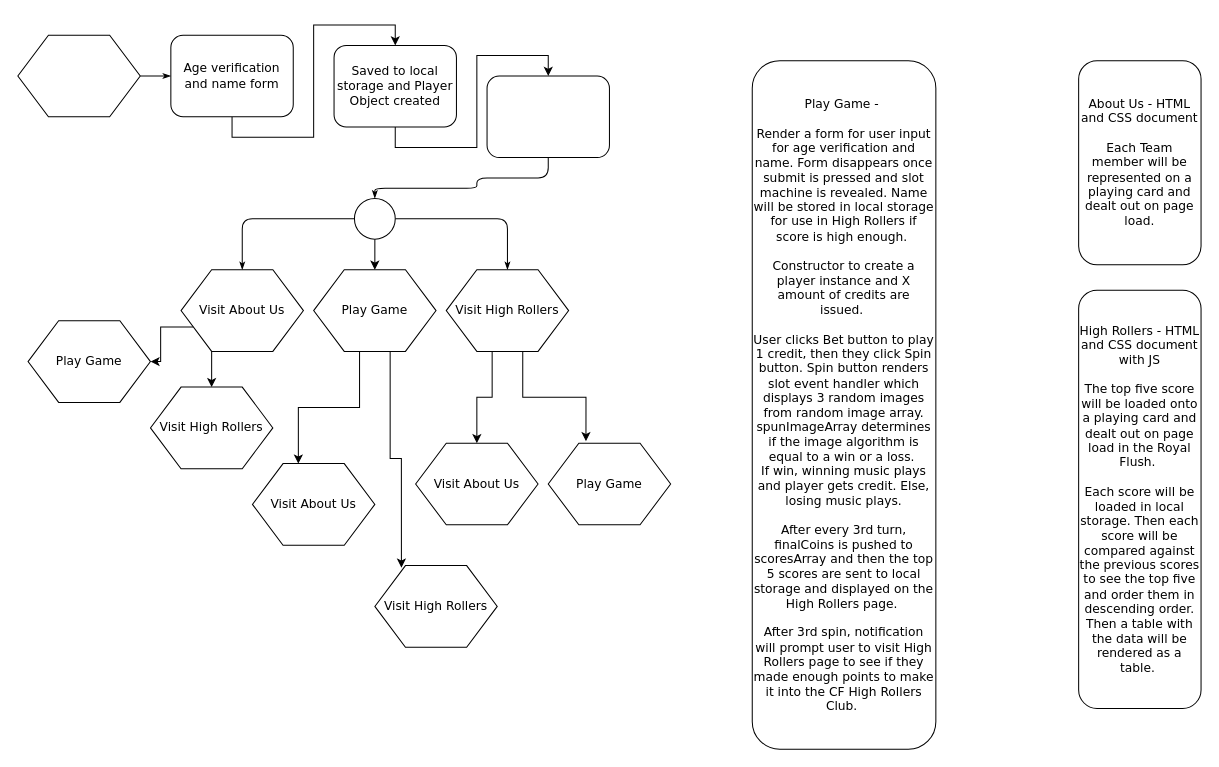
The diagram is 1219 pixels wide and 767 high, and some of its shapes have lost their labels. Each missing label, with the centre of its shape:
Age and name form disappears and slot machine is revealed: (x=547, y=116)
OR: (x=374, y=218)
User reaches index.html: (x=78, y=75)
